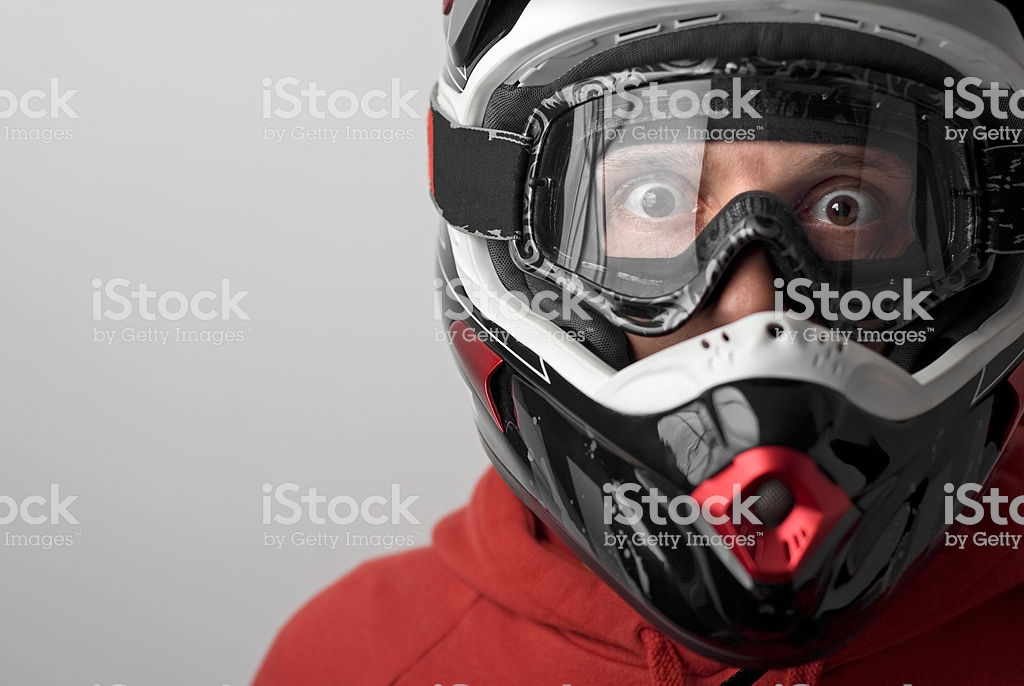helmet: (429, 8, 1015, 659)
